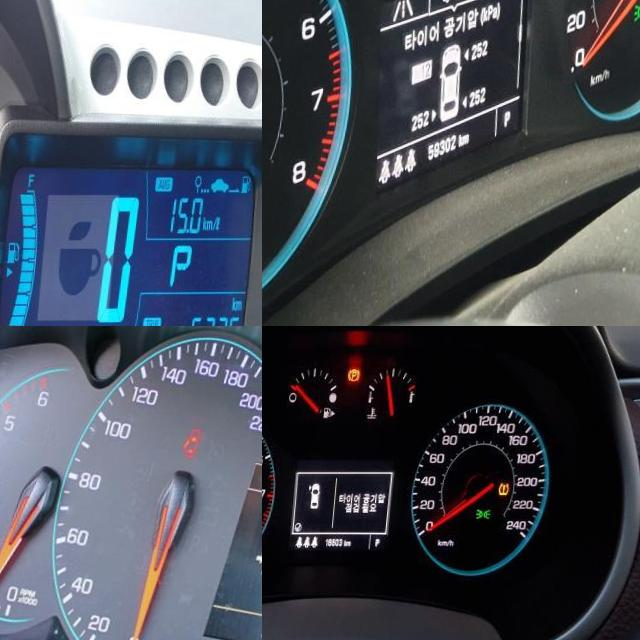Doors: (184, 425, 208, 458)
SideLamp: (482, 508, 498, 520), (636, 0, 640, 21)
